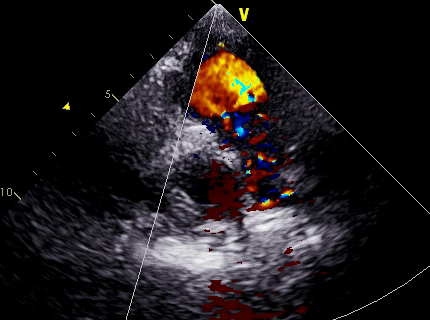PR: (227, 121, 294, 216)
